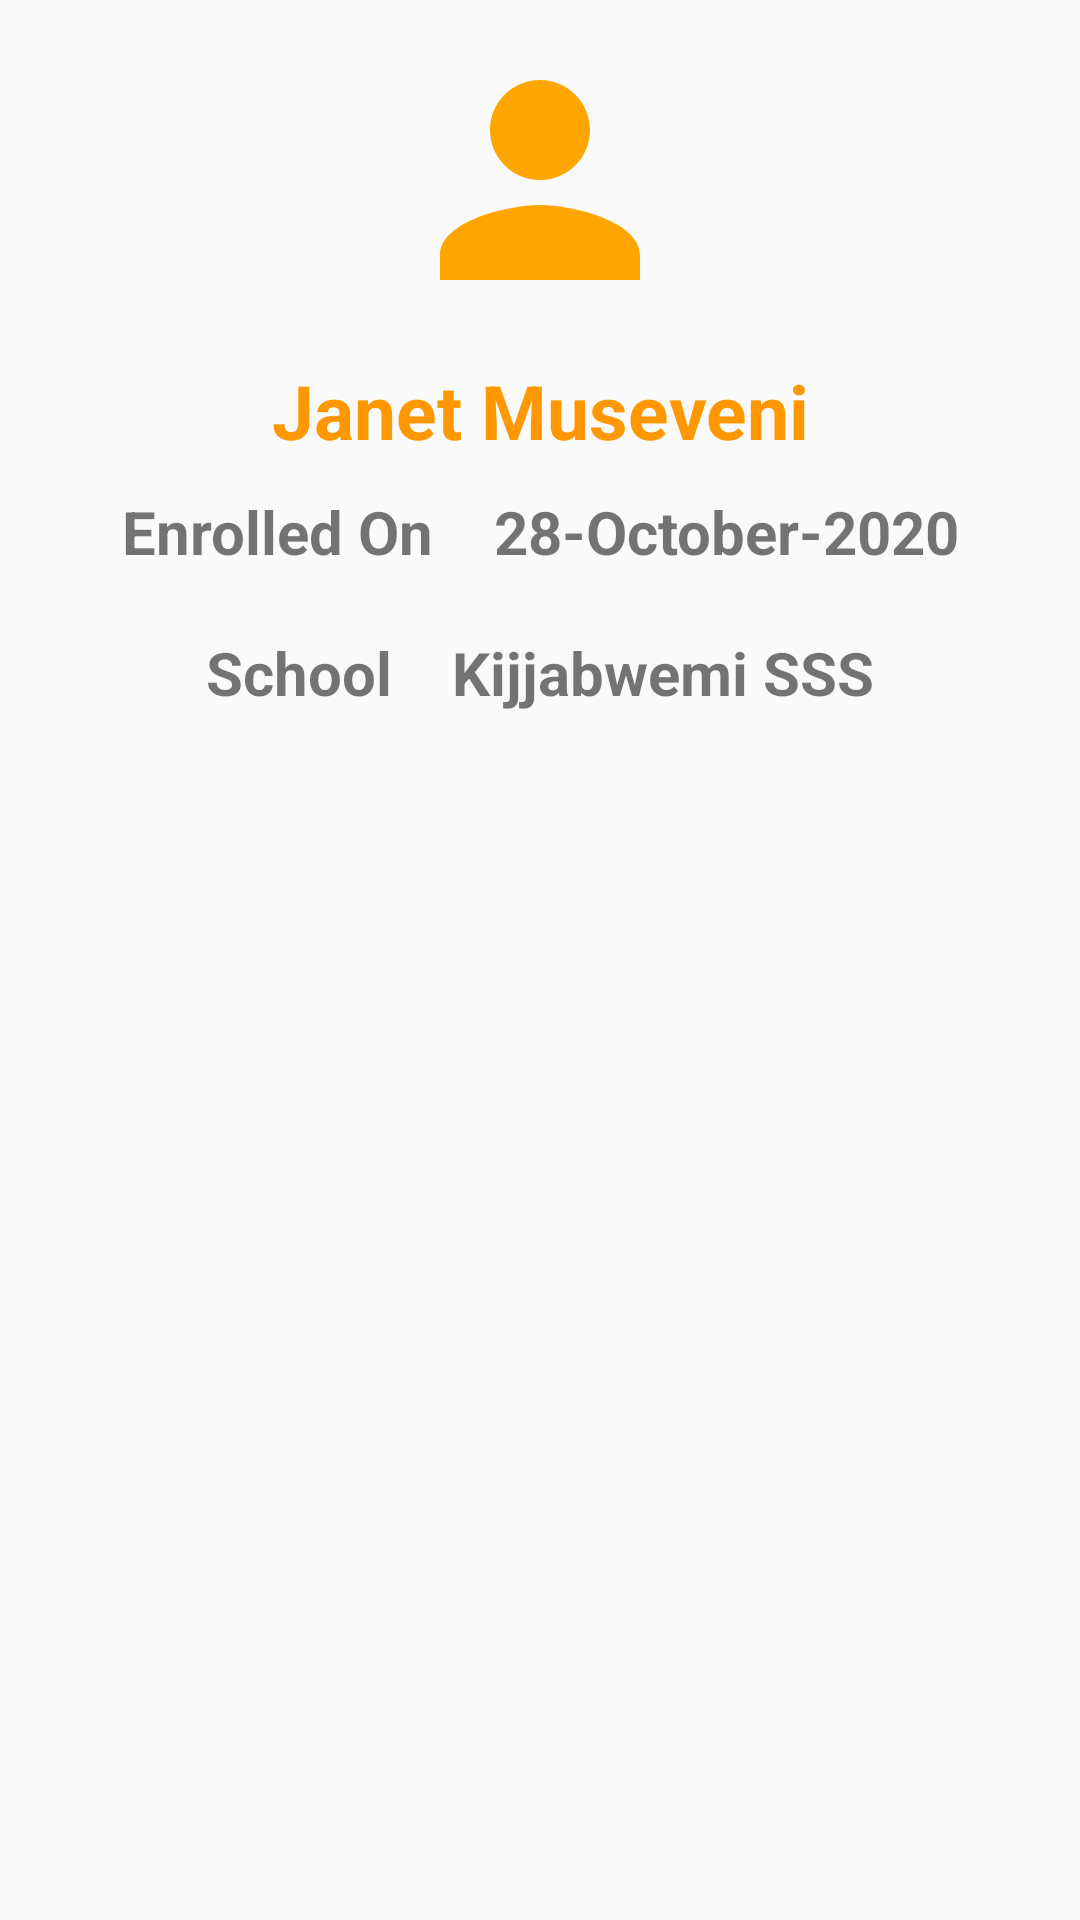

Point at icon controls on the screen. Image size 1080*1920, points as point (x, y).
person: point (540, 180)
